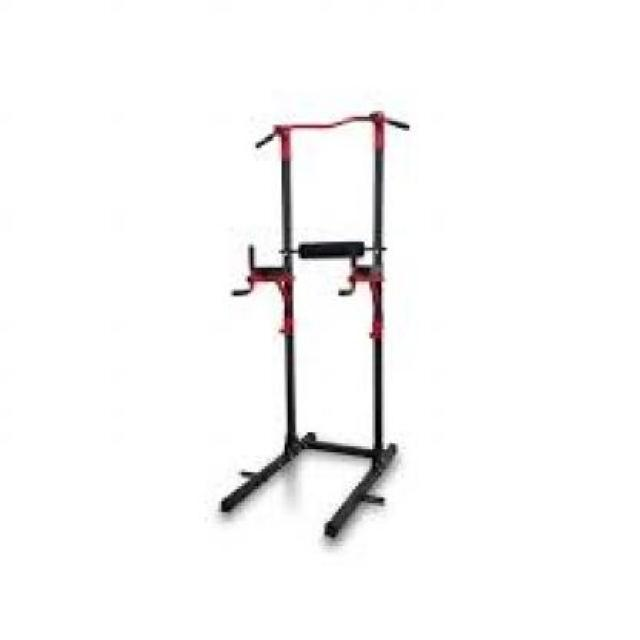chinning dipping: (220, 109, 412, 542)
